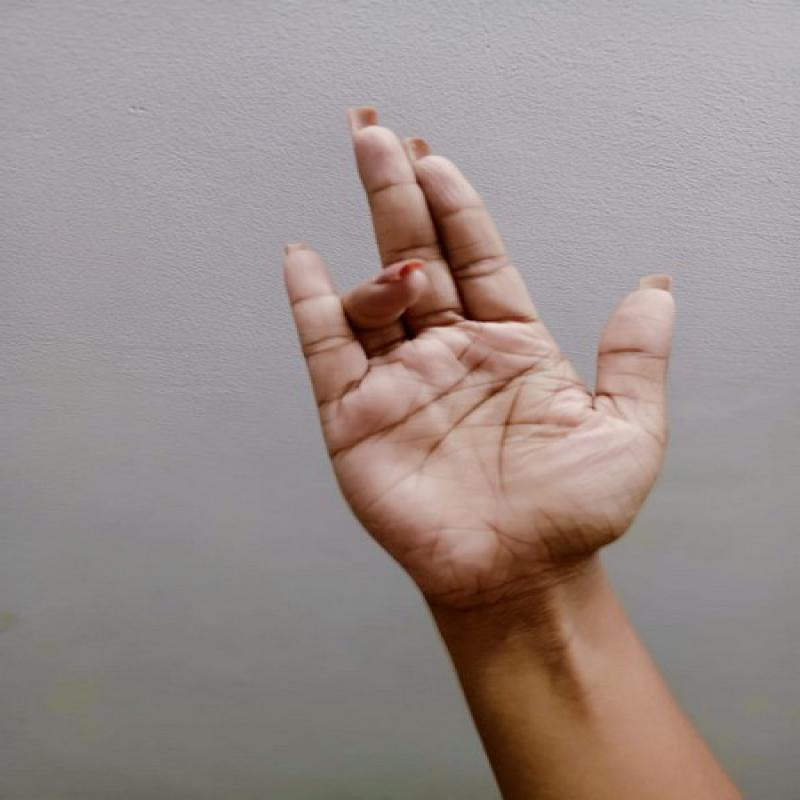Pathaaka: (264, 97, 690, 609)
